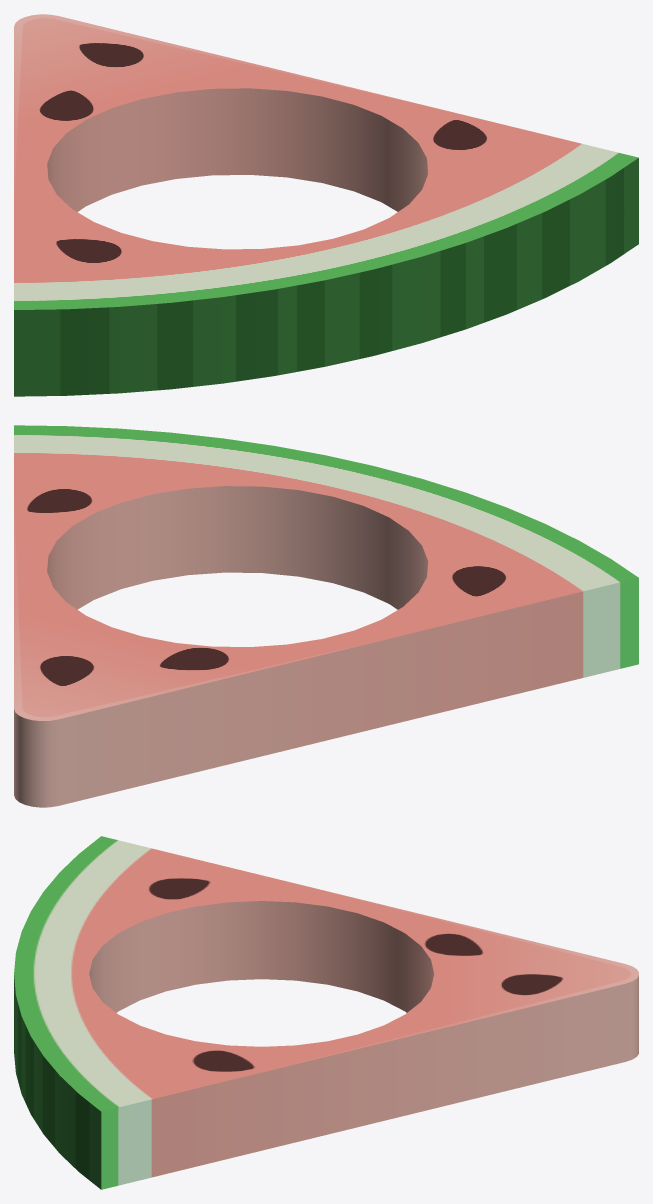
File: Watermelon.FBX
3 renders of one model, top to bottom at view 1: azimuth 30°, elevation 25°; view 2: azimuth 150°, elevation 25°; view 3: azimuth 270°, elevation 25°, orthographic. The views are drawn at different scales.
Parts seen in each view (by area): view 1: Watermelon; view 2: Watermelon; view 3: Watermelon.
Boxes of the visible parts, x1,y1,x2,y2 form: Watermelon: (14,14,638,396); Watermelon: (14,425,638,807); Watermelon: (14,836,638,1189).
Bounding box in the file's own units: 52.91 × 7 × 50.71.
1 material, 1 textured.
